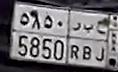0: (53, 18, 64, 62)
5: (41, 13, 52, 62), (18, 10, 29, 58)
8: (30, 11, 40, 59)
B: (82, 23, 94, 61)
J: (95, 20, 105, 62)
R: (70, 21, 81, 60)
